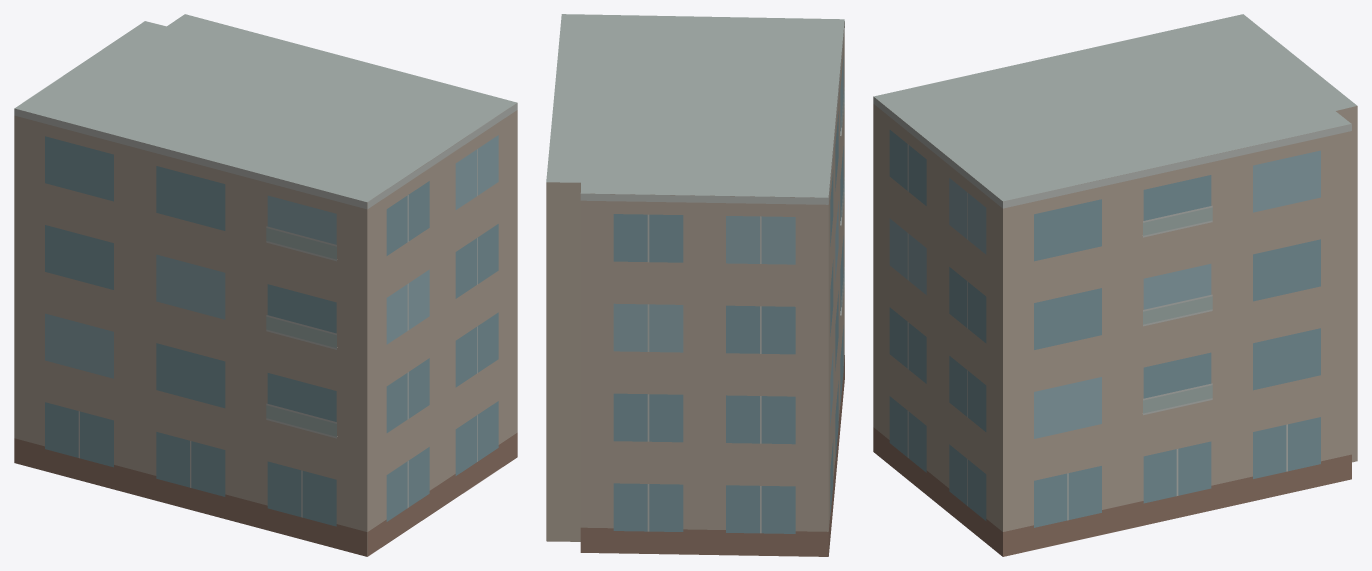
Rendered from survey-upis-32746783.glb.
3 views of the same model, side by side, from view 1: azimuth 30°, elevation 25°; view 2: azimuth 150°, elevation 25°; view 3: azimuth 270°, elevation 25° (orthographic).
Parts seen in each view (by area): view 1: survey-upis-32746783.tmp; view 2: survey-upis-32746783.tmp; view 3: survey-upis-32746783.tmp.
Part boxes in pixels (left/top/right/bottom): survey-upis-32746783.tmp: left=14, top=14, right=517, bottom=556; survey-upis-32746783.tmp: left=546, top=14, right=844, bottom=556; survey-upis-32746783.tmp: left=873, top=14, right=1357, bottom=556.
Size of the model in its own units: 13.81 by 12.2 by 15.07.
